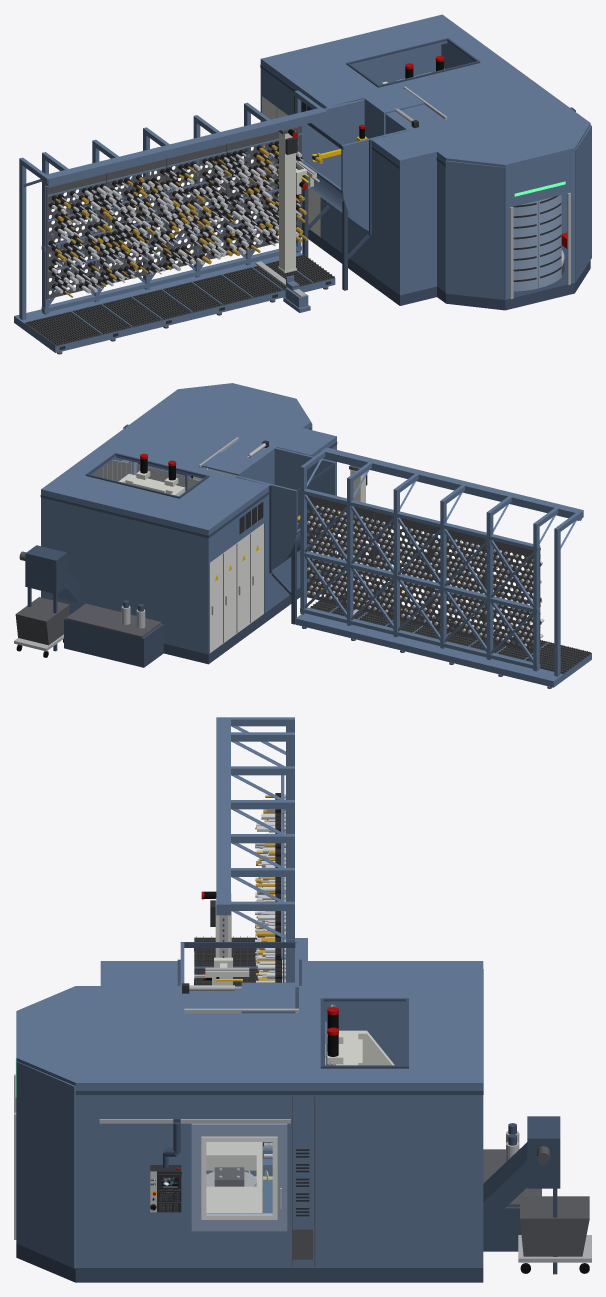
Rendered from hmc_x1200_4ax_blue_right_sidemag.glb.
3 renders of one model, top to bottom at view 1: azimuth 30°, elevation 25°; view 2: azimuth 150°, elevation 25°; view 3: azimuth 270°, elevation 25°, orthographic. The views are drawn at different scales.
Parts seen in each view (by area): view 1: enclosure__fms_blue, apc_housing__fms_blue, twm_frame__fms_blue, twm_tools__holder, twm_frame__anthracite_lt, twm_tools__tool_bright, twm_base__grating, tc_box__fms_blue, twm_base__fms_blue, enclosure__fms_blue_dk, twm_tools__tool_gold, mag_loader__struct_grey (+9 smaller); view 2: enclosure__fms_blue, twm_frame__fms_blue, twm_frame__anthracite_lt, chip_coolant__fms_blue_dk, electrical_cabinet__hmc_white, twm_tools__steel, twm_base__fms_blue, tc_box__fms_blue, enclosure__fms_blue_dk, apc_housing__fms_blue, twm_base__grating, chip_cart__steel_dark (+7 smaller); view 3: enclosure__fms_blue, apc_housing__fms_blue, twm_frame__fms_blue, enclosure__fms_blue_dk, chip_coolant__fms_blue_dk, operator_door__glass_clear, operator_door__door_blue, chip_cart__steel_dark, table__struct_grey, twm_tools__tool_bright, operator_door__hmc_white, enclosure__steel (+10 smaller).
Boxes of the visible parts, x1,y1,x2,y2 form: enclosure__fms_blue: (260, 14, 580, 295); apc_housing__fms_blue: (437, 116, 591, 299); twm_frame__fms_blue: (19, 90, 327, 320); twm_tools__holder: (48, 141, 302, 294); twm_frame__anthracite_lt: (46, 126, 301, 299); twm_tools__tool_bright: (51, 144, 303, 293); twm_base__grating: (25, 254, 334, 346); tc_box__fms_blue: (302, 99, 407, 230); twm_base__fms_blue: (14, 252, 335, 352); enclosure__fms_blue_dk: (260, 38, 480, 305); twm_tools__tool_gold: (55, 145, 308, 297); mag_loader__struct_grey: (278, 131, 296, 273); enclosure__fms_blue: (41, 395, 336, 654); twm_frame__fms_blue: (300, 447, 583, 676); twm_frame__anthracite_lt: (307, 495, 540, 653); chip_coolant__fms_blue_dk: (25, 545, 163, 667); electrical_cabinet__hmc_white: (210, 523, 263, 652); twm_tools__steel: (306, 505, 533, 646); twm_base__fms_blue: (295, 600, 591, 687); tc_box__fms_blue: (236, 447, 336, 569); enclosure__fms_blue_dk: (40, 442, 337, 664); apc_housing__fms_blue: (170, 383, 312, 477); twm_base__grating: (310, 593, 591, 673); chip_cart__steel_dark: (15, 597, 69, 645); enclosure__fms_blue: (100, 961, 483, 1267); apc_housing__fms_blue: (16, 986, 100, 1268); twm_frame__fms_blue: (216, 717, 294, 982); enclosure__fms_blue_dk: (100, 959, 483, 1282); chip_coolant__fms_blue_dk: (483, 1116, 560, 1274); operator_door__glass_clear: (207, 1142, 271, 1213); operator_door__door_blue: (191, 1123, 287, 1231); chip_cart__steel_dark: (520, 1196, 589, 1256); table__struct_grey: (206, 1142, 262, 1212); twm_tools__tool_bright: (255, 799, 275, 982); operator_door__hmc_white: (201, 1136, 277, 1219); enclosure__steel: (99, 985, 298, 1123).
Bounding box in the file's own units: 11.17 × 3.54 × 7.86.
24 materials, 2 textured.
